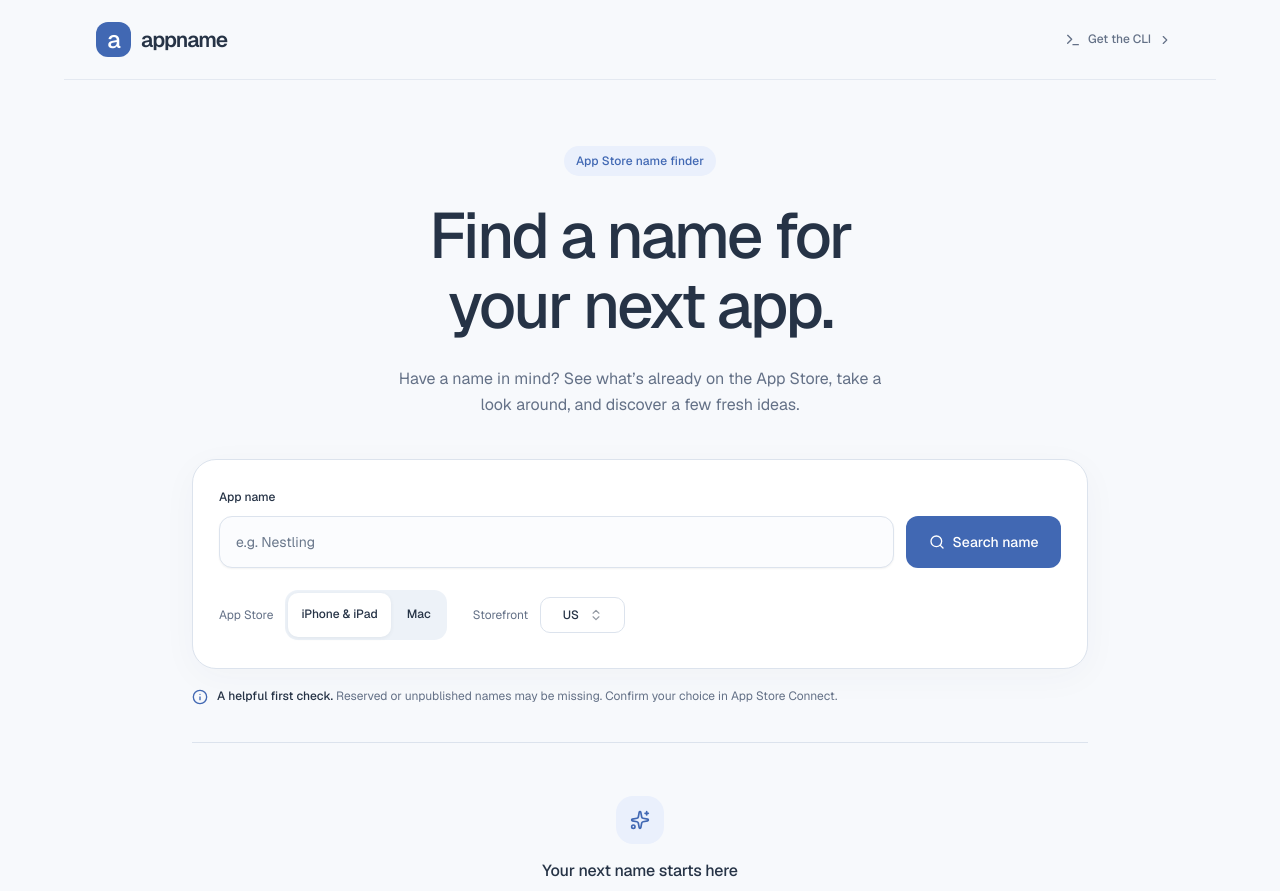
Scenario: Appname interface › retains a visible failure instead of claiming an empty catalog
Type "Cradle" into the field labelled "App name" at (556, 542), box [219,516,894,568]
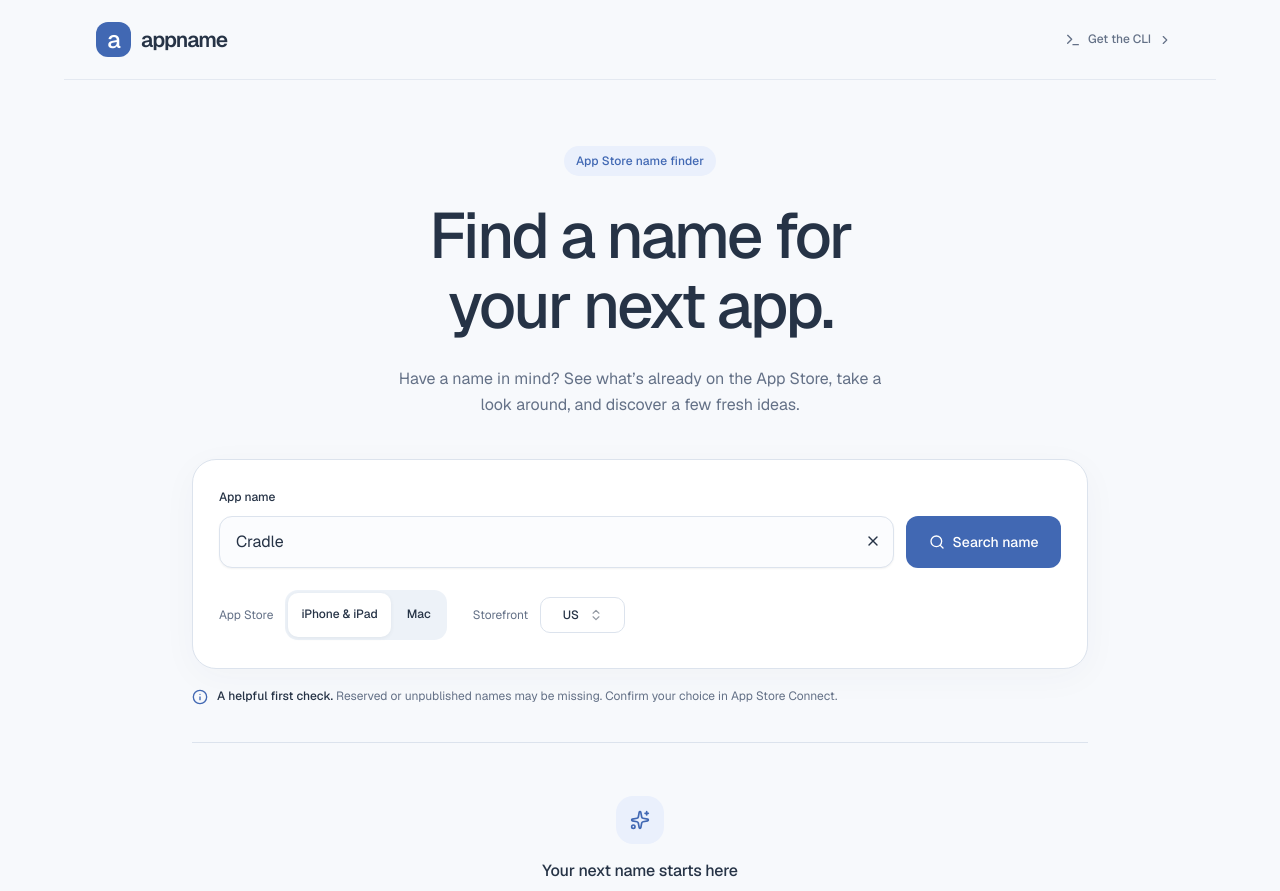
Submit the form "Search name", box [219,488,1061,640]
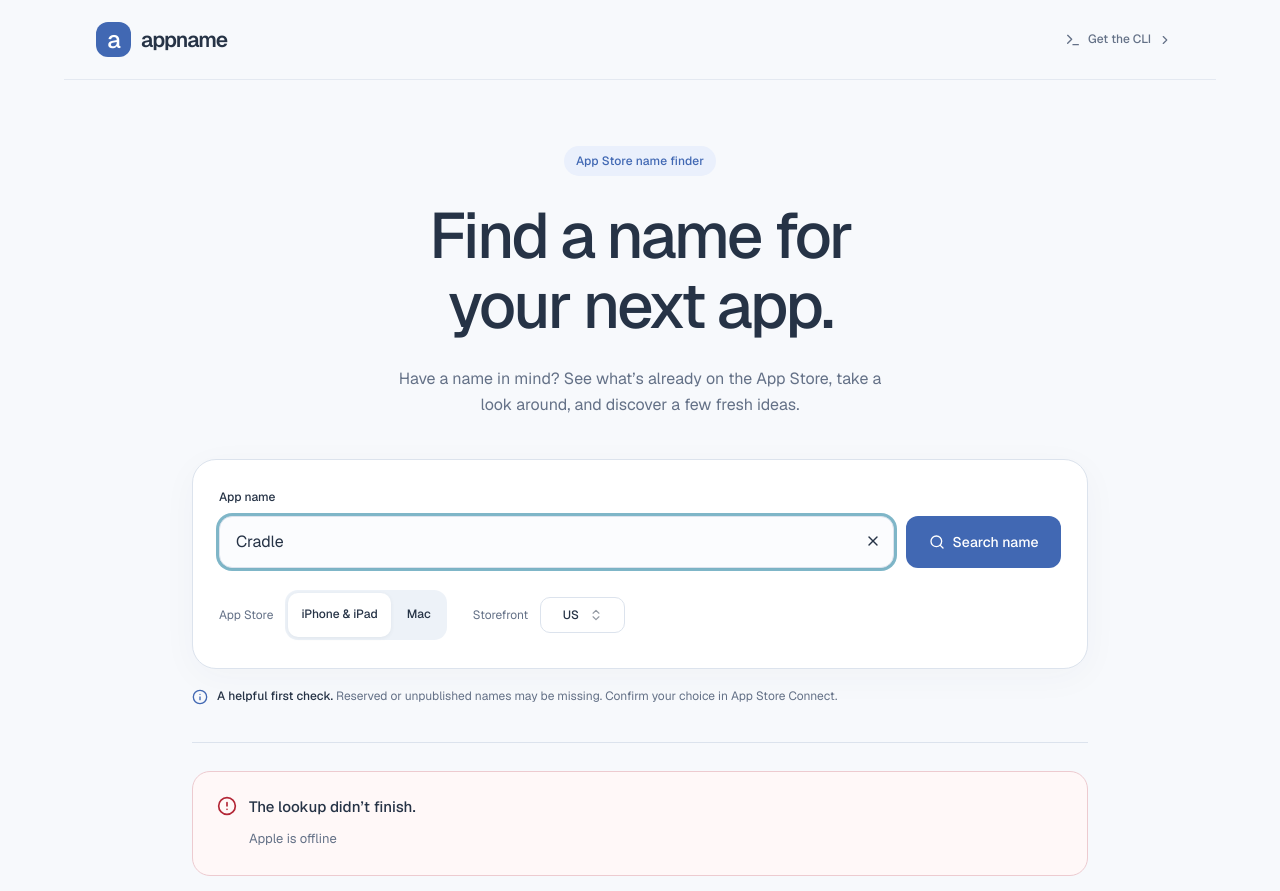
Check: the message shows "Apple is offline", box [249,830,337,848]
